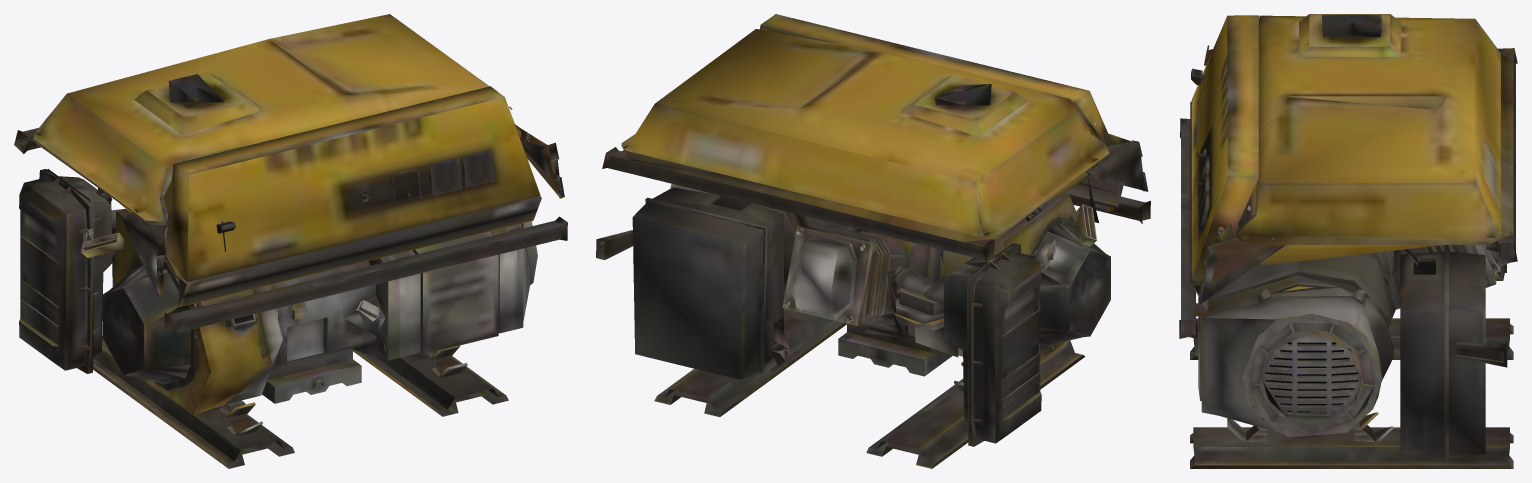
File: cc0_portable_generator.glb
3 renders of one model, left to right at view 1: azimuth 30°, elevation 25°; view 2: azimuth 150°, elevation 25°; view 3: azimuth 270°, elevation 25°, orthographic. The views are drawn at different scales.
Parts seen in each view (by area): view 1: portable_generator; view 2: portable_generator; view 3: portable_generator.
Part boxes in pixels (bbox=[...]): portable_generator: bbox=[14, 14, 567, 468]; portable_generator: bbox=[596, 14, 1150, 468]; portable_generator: bbox=[1179, 14, 1517, 468].
Bounding box in the file's own units: 0.8086 × 0.5746 × 0.5382.
2 materials, 2 textured.
